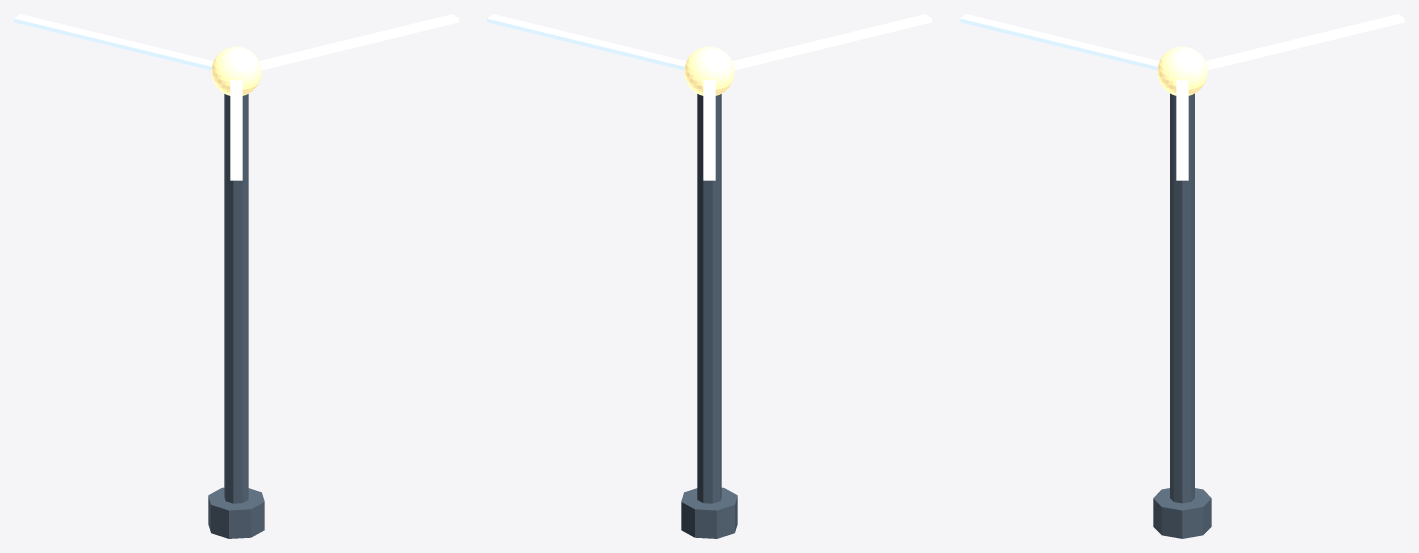
The model's file is bldg_wind.glb.
3 views of the same model, side by side, from view 1: azimuth 30°, elevation 25°; view 2: azimuth 150°, elevation 25°; view 3: azimuth 270°, elevation 25° (orthographic).
Parts seen in each view (by area): view 1: Pole, PoleBase, Blade0, Blade1, Hub, Blade2; view 2: Pole, PoleBase, Blade0, Blade2, Hub, Blade1; view 3: Pole, PoleBase, Blade1, Blade2, Hub, Blade0.
Part boxes in pixels (x1=…): Pole: x1=224, y1=94, x2=248, y2=503; PoleBase: x1=208, y1=487, x2=264, y2=538; Blade0: x1=259, y1=14, x2=458, y2=70; Blade1: x1=14, y1=14, x2=213, y2=70; Hub: x1=211, y1=46, x2=261, y2=95; Blade2: x1=230, y1=80, x2=242, y2=180; Pole: x1=697, y1=94, x2=721, y2=503; PoleBase: x1=681, y1=487, x2=737, y2=538; Blade0: x1=487, y1=14, x2=686, y2=70; Blade2: x1=732, y1=14, x2=931, y2=70; Hub: x1=684, y1=46, x2=734, y2=95; Blade1: x1=703, y1=80, x2=715, y2=180; Pole: x1=1170, y1=93, x2=1194, y2=503; PoleBase: x1=1153, y1=488, x2=1211, y2=538; Blade1: x1=1205, y1=14, x2=1404, y2=70; Blade2: x1=960, y1=14, x2=1159, y2=70; Hub: x1=1157, y1=46, x2=1207, y2=95; Blade0: x1=1176, y1=80, x2=1188, y2=180.
Size of the model in its own units: 1.84 by 2.52 by 2.13.
